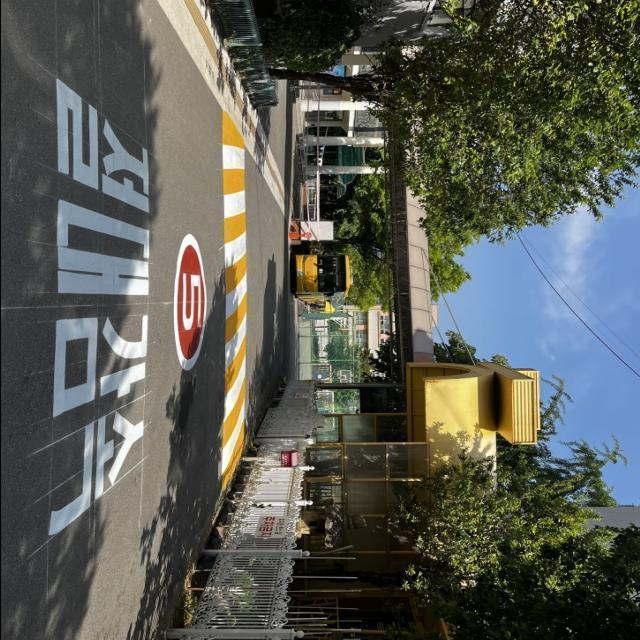speedbreaker: (210, 102, 252, 504)
